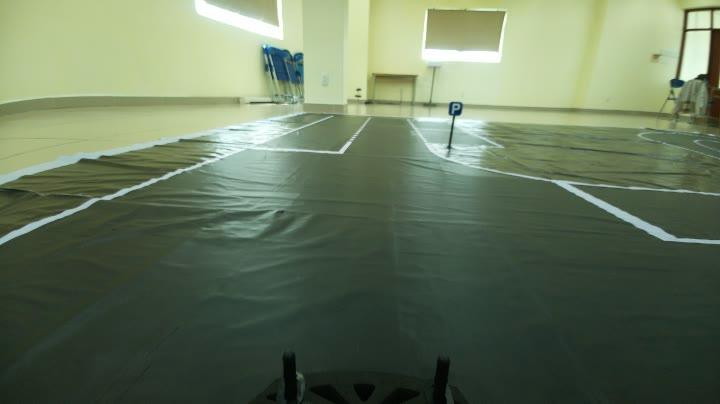parking: (443, 89, 469, 123)
